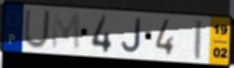4: (89, 13, 113, 55), (154, 18, 176, 58)
I: (194, 18, 203, 62)
J: (120, 17, 143, 55)
M: (50, 11, 82, 53)
U: (22, 8, 52, 51)
